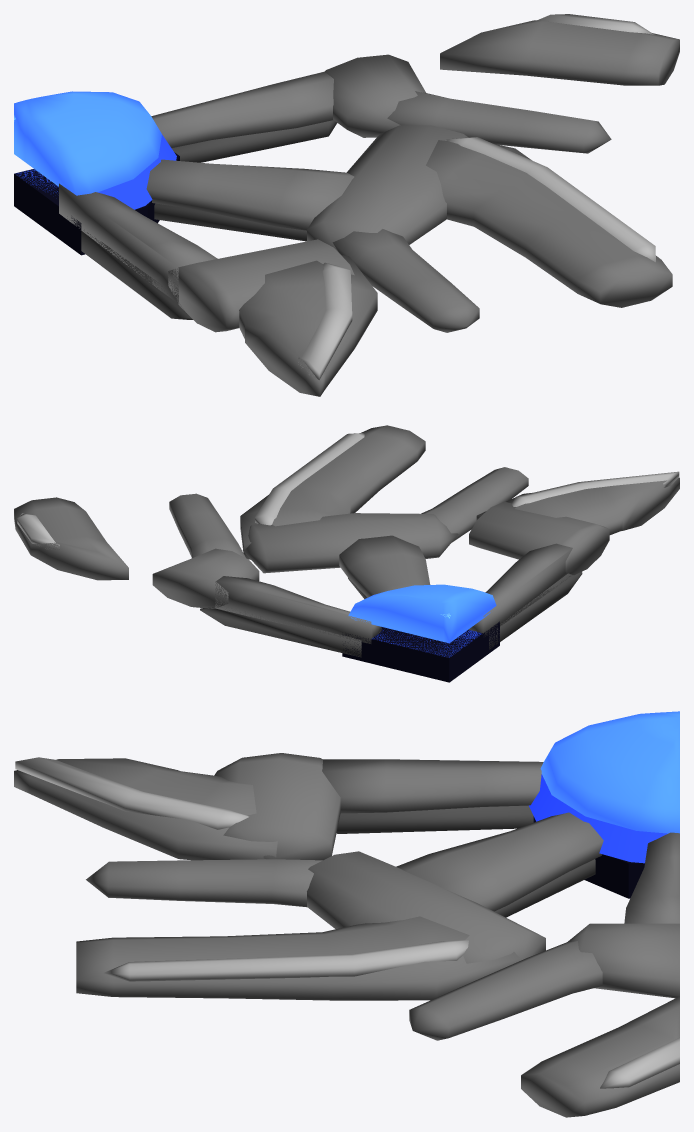
File: newsh-hash-197.glb
3 views of the same model, one above another, from view 1: azimuth 30°, elevation 25°; view 2: azimuth 150°, elevation 25°; view 3: azimuth 270°, elevation 25° (orthographic). The views are drawn at different scales.
Visible parts, largest first — view 1: newsh-hash-197; view 2: newsh-hash-197; view 3: newsh-hash-197.
Part boxes in pixels (bbox=[...]): newsh-hash-197: bbox=[14, 14, 679, 396]; newsh-hash-197: bbox=[14, 425, 679, 682]; newsh-hash-197: bbox=[14, 711, 679, 1117].
Size of the model in its own units: 2 by 0.3169 by 1.7.
